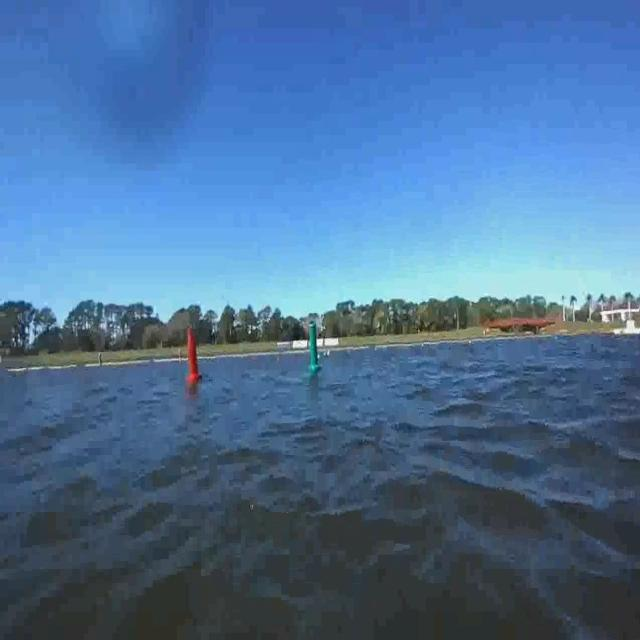green-column-buoy: (307, 323, 322, 373)
red-column-buoy: (184, 327, 201, 383)
